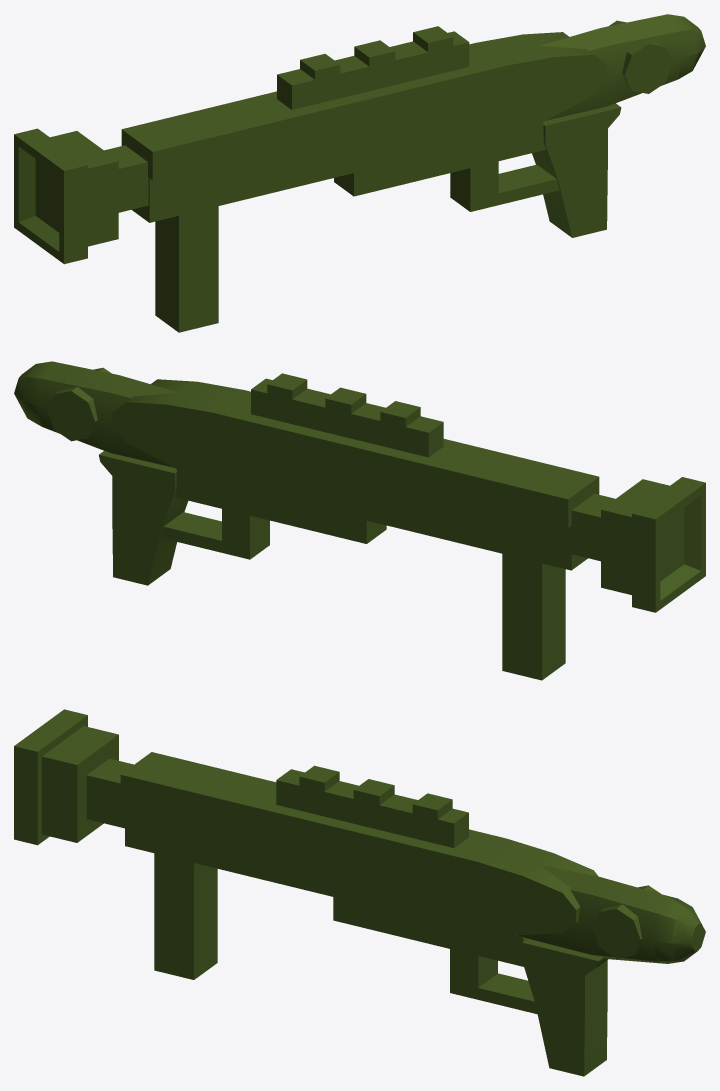
Rendered from Blaster.fbx.
3 views of the same model, one above another, from view 1: azimuth 30°, elevation 25°; view 2: azimuth 150°, elevation 25°; view 3: azimuth 330°, elevation 25° (orthographic).
Parts seen in each view (by area): view 1: BlasterMesh; view 2: BlasterMesh; view 3: BlasterMesh.
Boxes of the visible parts, left/top/right/bottom form: BlasterMesh: left=14, top=14, right=705, bottom=332; BlasterMesh: left=14, top=361, right=705, bottom=680; BlasterMesh: left=14, top=709, right=705, bottom=1076.
Size of the model in its own units: 1623 by 533 by 214.
